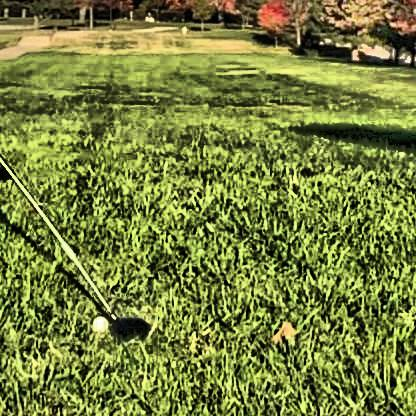golfball: (90, 312, 107, 329)
